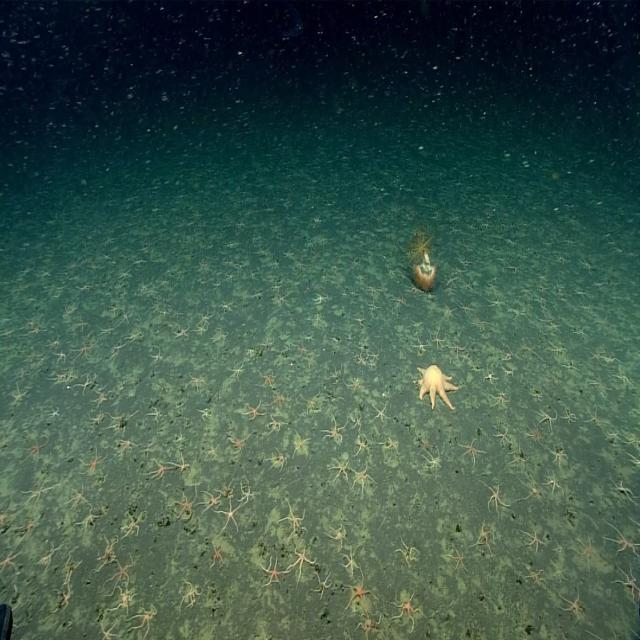brittle-stars: (605, 524, 640, 557), (346, 572, 374, 611), (24, 476, 55, 508), (394, 591, 421, 627), (614, 563, 640, 600), (559, 585, 584, 623), (108, 556, 134, 592), (280, 498, 306, 534), (172, 486, 198, 519), (286, 547, 312, 580), (260, 550, 283, 587), (131, 606, 158, 636), (483, 482, 505, 518), (575, 534, 598, 567), (109, 586, 137, 613), (80, 446, 106, 475), (457, 437, 483, 466), (24, 433, 48, 464), (474, 519, 492, 555), (121, 508, 141, 540), (521, 524, 542, 554), (180, 581, 203, 608), (352, 462, 372, 493), (79, 504, 101, 532), (520, 476, 542, 504), (221, 502, 240, 534), (0, 546, 22, 572), (359, 612, 381, 638), (67, 482, 87, 510), (536, 406, 558, 431), (448, 542, 466, 572), (100, 534, 119, 562), (19, 515, 41, 539), (200, 488, 222, 512), (397, 538, 417, 564), (292, 430, 310, 457), (544, 472, 564, 496), (325, 418, 345, 442), (244, 397, 264, 421), (330, 456, 349, 481), (268, 446, 287, 471), (57, 582, 75, 608), (110, 412, 132, 433), (228, 429, 245, 454), (100, 618, 119, 640), (313, 572, 332, 594), (343, 549, 361, 572), (614, 364, 631, 388), (151, 457, 169, 479), (329, 524, 346, 547), (345, 375, 365, 394), (526, 565, 544, 585), (492, 425, 510, 445), (424, 450, 442, 470), (590, 372, 607, 393), (11, 383, 27, 405), (271, 388, 287, 410), (240, 480, 254, 505), (372, 402, 387, 425), (548, 341, 566, 359), (188, 373, 206, 391), (489, 392, 510, 407), (210, 544, 224, 566), (471, 314, 488, 332), (382, 434, 399, 452), (258, 369, 274, 388), (527, 422, 542, 442), (23, 348, 43, 363), (439, 302, 456, 319), (450, 340, 468, 356), (431, 329, 446, 348), (305, 391, 319, 411), (355, 436, 370, 454), (199, 306, 214, 324), (175, 323, 190, 341), (223, 481, 236, 501), (76, 342, 92, 358), (458, 300, 474, 316), (196, 406, 212, 422), (486, 295, 503, 310), (79, 374, 93, 392), (560, 406, 574, 424), (552, 448, 566, 466), (120, 310, 134, 328), (149, 405, 162, 424), (484, 365, 496, 385), (390, 293, 406, 308), (313, 290, 328, 306), (269, 416, 284, 432), (354, 311, 368, 328), (230, 363, 244, 380), (30, 320, 44, 337), (413, 334, 426, 352), (126, 330, 144, 343), (138, 276, 151, 294), (120, 437, 135, 452), (90, 410, 104, 426), (418, 436, 432, 452), (328, 389, 342, 405), (47, 405, 61, 420), (355, 349, 367, 366), (216, 327, 228, 344), (119, 266, 133, 280), (561, 234, 576, 247), (55, 349, 67, 365), (194, 323, 208, 336), (152, 344, 162, 362), (95, 391, 107, 406), (501, 345, 512, 361), (108, 302, 119, 318), (574, 326, 586, 340), (172, 306, 184, 320), (294, 258, 306, 272), (298, 340, 308, 356), (224, 271, 237, 283), (220, 299, 232, 312), (99, 324, 113, 335), (176, 429, 186, 444), (272, 280, 283, 293), (370, 352, 380, 362), (312, 314, 322, 324), (223, 258, 232, 268)
